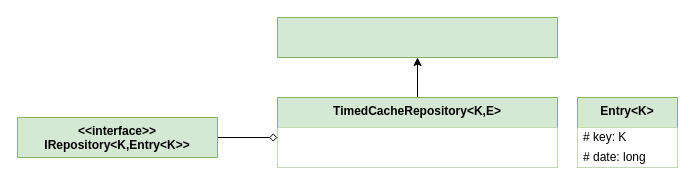
Some shapes in this 695 by 185 pixel diagram are drawn without their labels. The centre of each missing label's shape, as x and y in pixels:
"# expirationTime: long" belongs at (417,157).
"# metadataRepository: IRepository<K, Entry<K>>" belongs at (417,137).
"<<abstract>> ValidCacheRepository<K,E>" belongs at (417,37).
